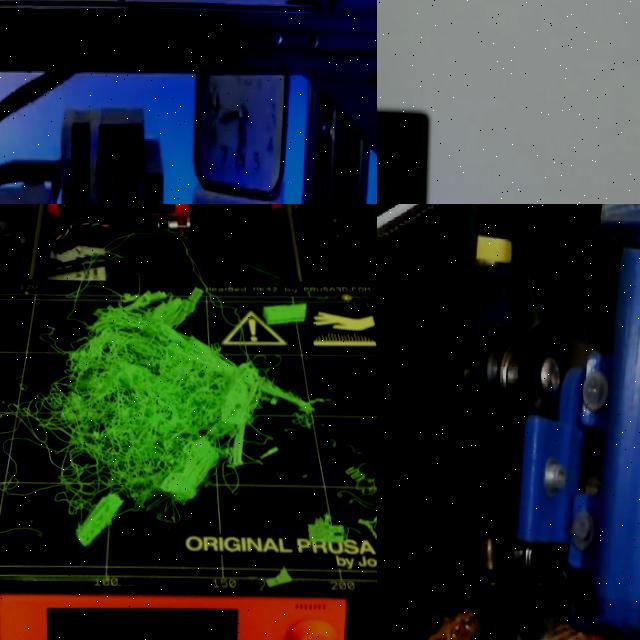spaghetti: (11, 290, 335, 518), (343, 455, 377, 496), (357, 514, 377, 545)
